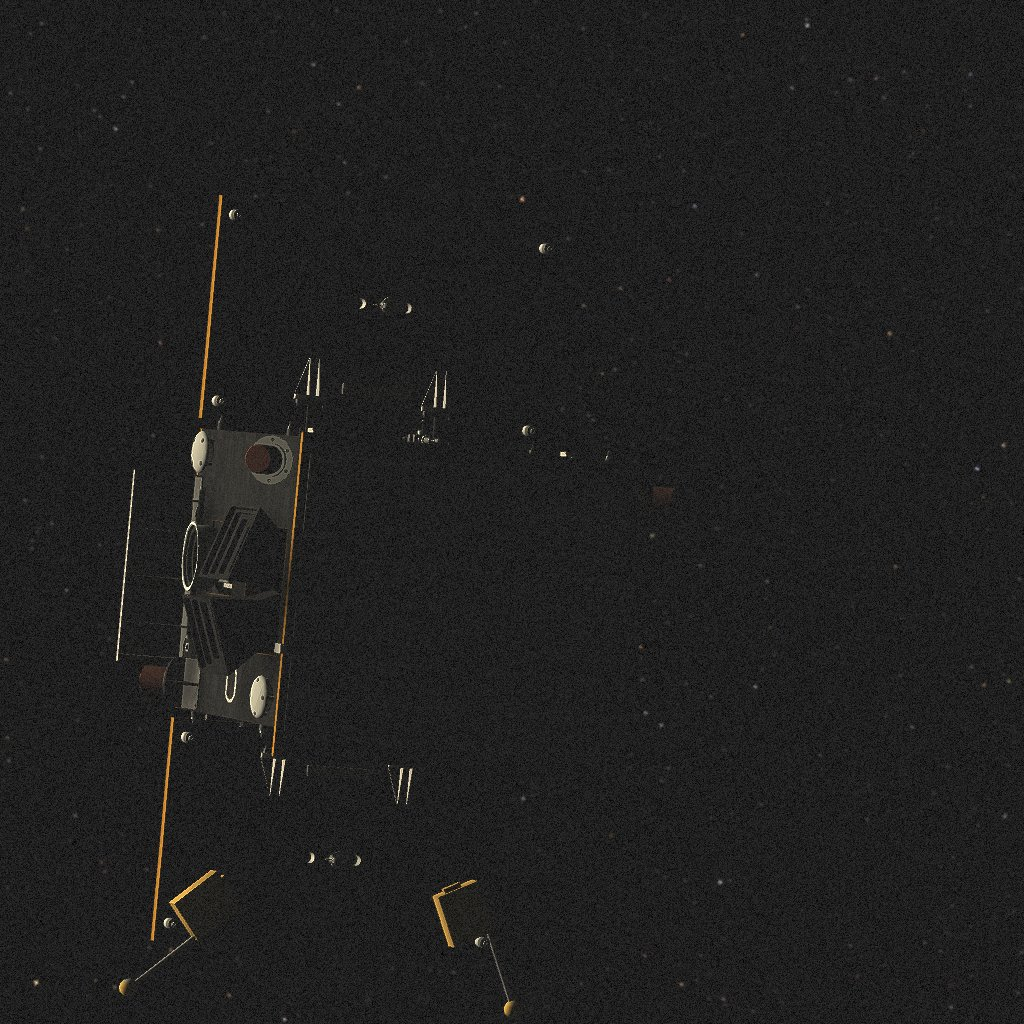proba_2: (112, 194, 608, 1004)
